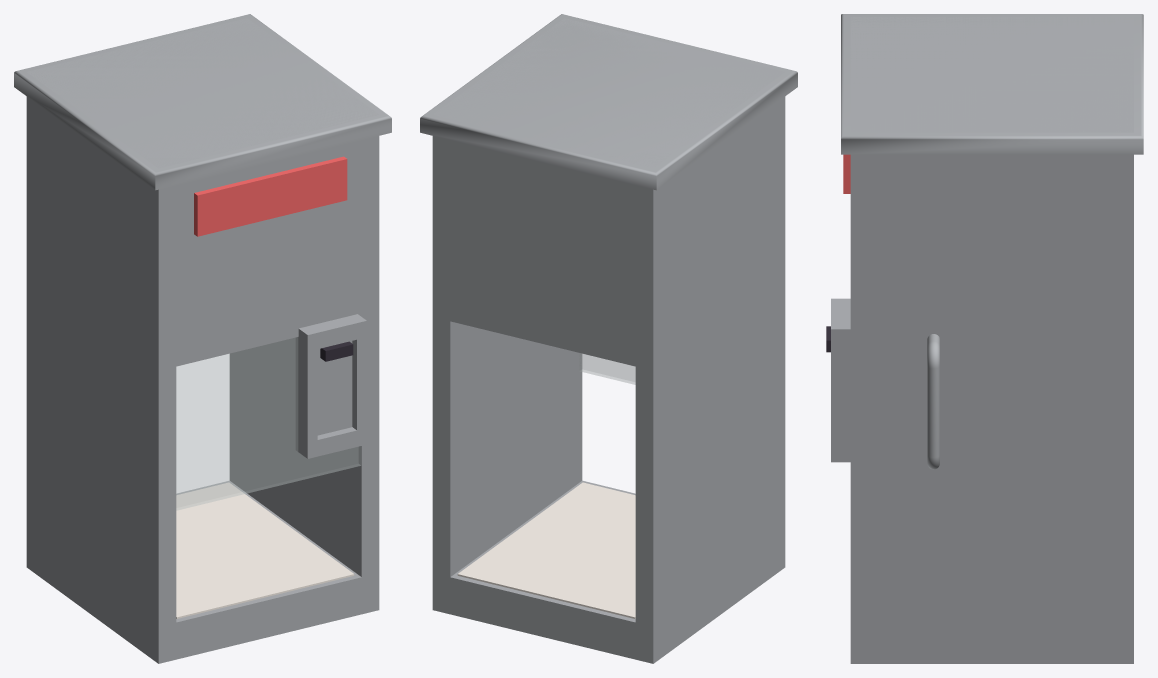
The model's file is newsrack.glb.
3 renders of one model, left to right at view 1: azimuth 30°, elevation 25°; view 2: azimuth 150°, elevation 25°; view 3: azimuth 270°, elevation 25°, orthographic. The views are drawn at different scales.
Visible parts, largest first — view 1: cabinet, lid, window_glass, paper_stack, coin_mech, masthead; view 2: cabinet, lid, paper_stack, window_glass; view 3: cabinet, lid, coin_mech, side_handle.
Boxes of the visible parts, x1,y1,x2,y2 form: cabinet: (26, 18, 379, 663); lid: (14, 14, 391, 190); window_glass: (176, 337, 360, 510); paper_stack: (176, 482, 354, 618); coin_mech: (294, 314, 366, 458); masthead: (194, 156, 347, 236); cabinet: (432, 18, 785, 663); lid: (420, 14, 797, 190); paper_stack: (457, 482, 635, 618); window_glass: (579, 353, 635, 384); cabinet: (850, 17, 1133, 663); lid: (841, 14, 1143, 154); coin_mech: (831, 298, 850, 462); side_handle: (927, 334, 939, 469).
Bounding box in the file's own units: 0.673 × 1.2 × 0.65.
